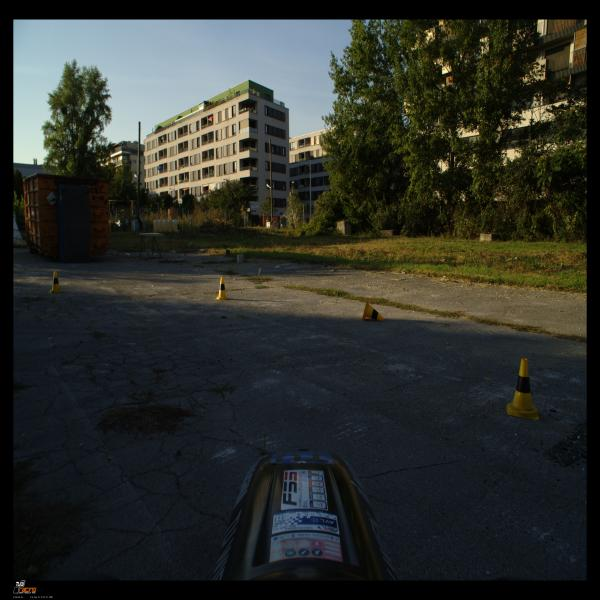yellow_cone: (507, 358, 539, 420), (362, 300, 384, 321), (48, 271, 64, 293), (215, 277, 229, 300)
